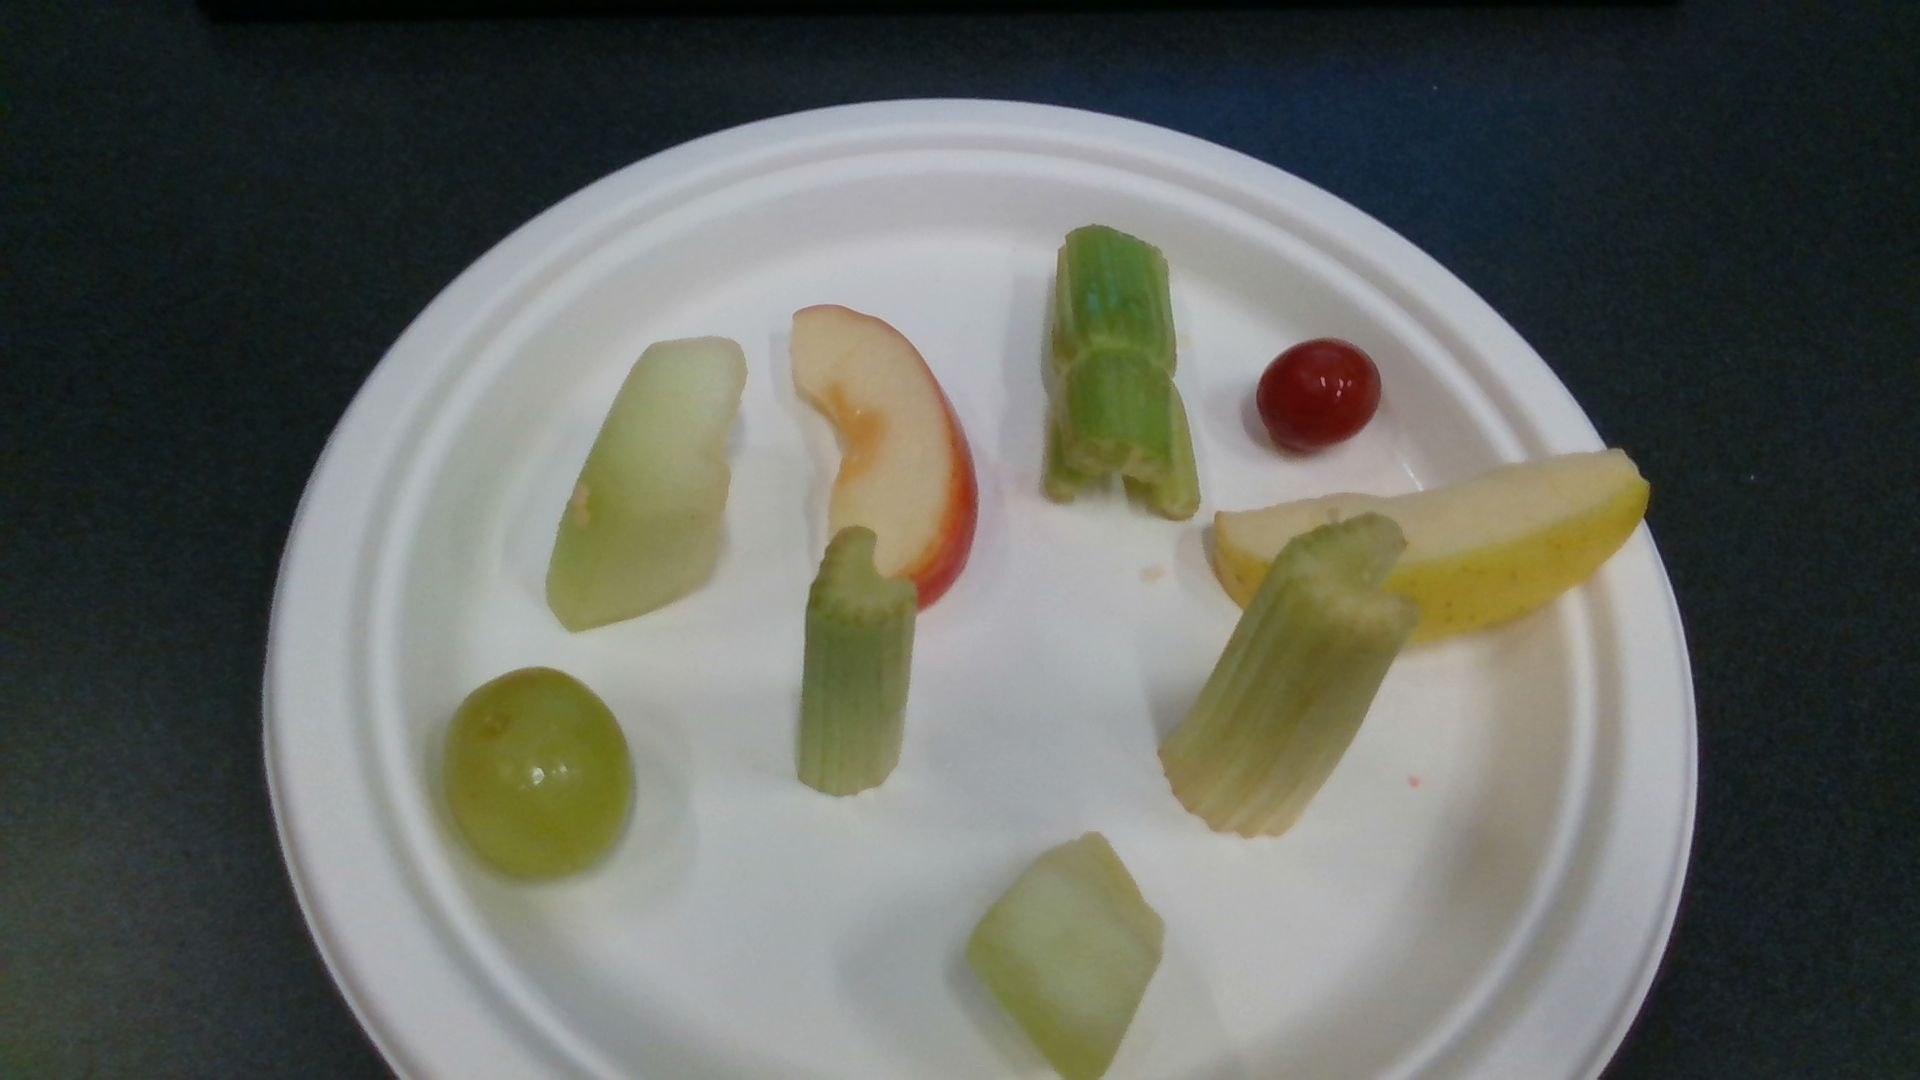apple: (1217, 450, 1647, 640), (790, 305, 978, 611)
cantalope: (547, 338, 745, 632), (965, 836, 1166, 1080)
celery: (1164, 516, 1410, 833), (1042, 228, 1199, 521), (799, 530, 915, 791)
grape_green: (440, 669, 636, 881)
grape_purple: (1259, 342, 1382, 451)
